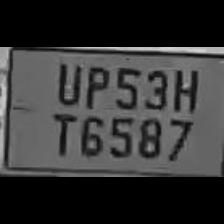3: (140, 64, 170, 110)
5: (110, 62, 140, 110), (104, 110, 134, 158)
6: (74, 112, 104, 158)
7: (163, 114, 193, 162)
8: (134, 112, 162, 160)
H: (168, 63, 200, 111)
P: (80, 60, 110, 110)
T: (46, 108, 76, 158)
U: (52, 57, 80, 106)
